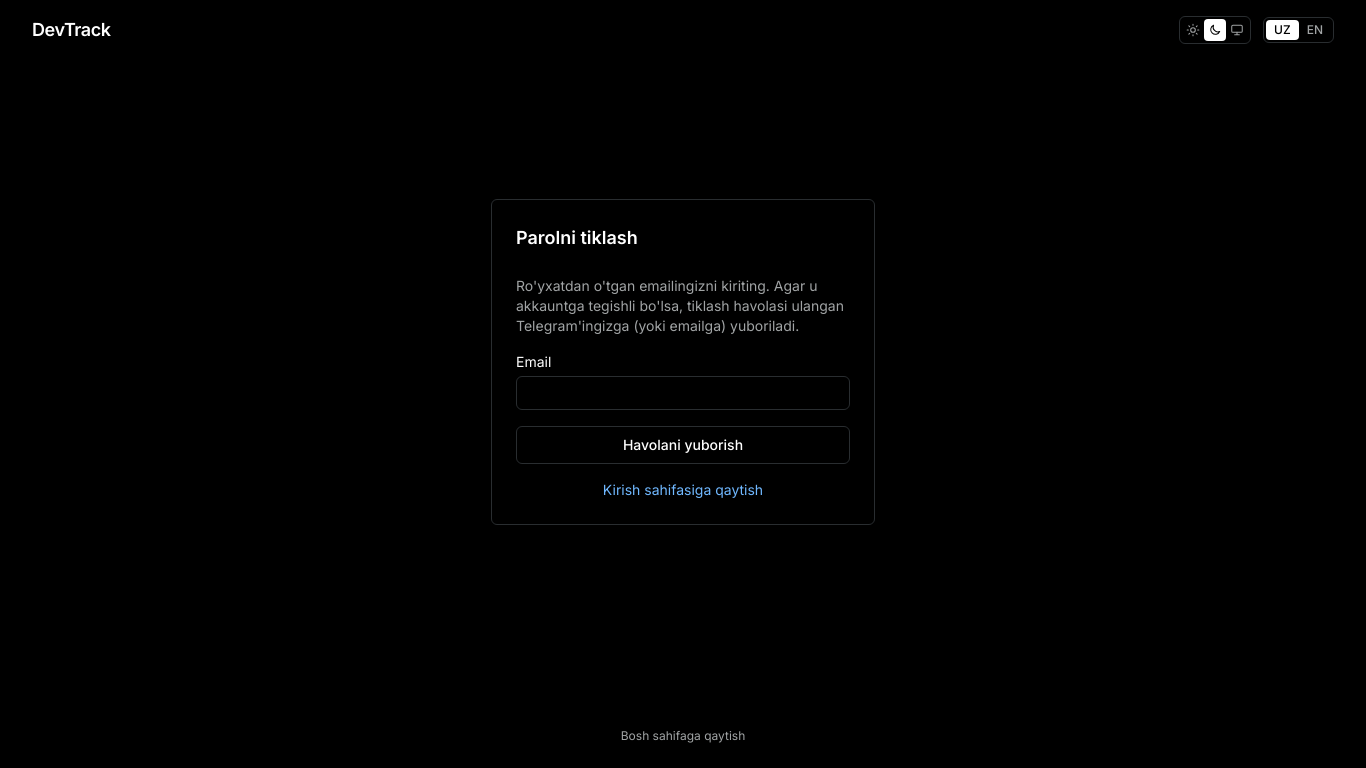
Scenario: ForgotPasswordPage › requests a reset and then shows the confirmation
The width and height of the screenshot is (1366, 768).
Type "jane@example.com" into the field labelled "Email" at (683, 393), box [516, 376, 850, 410]
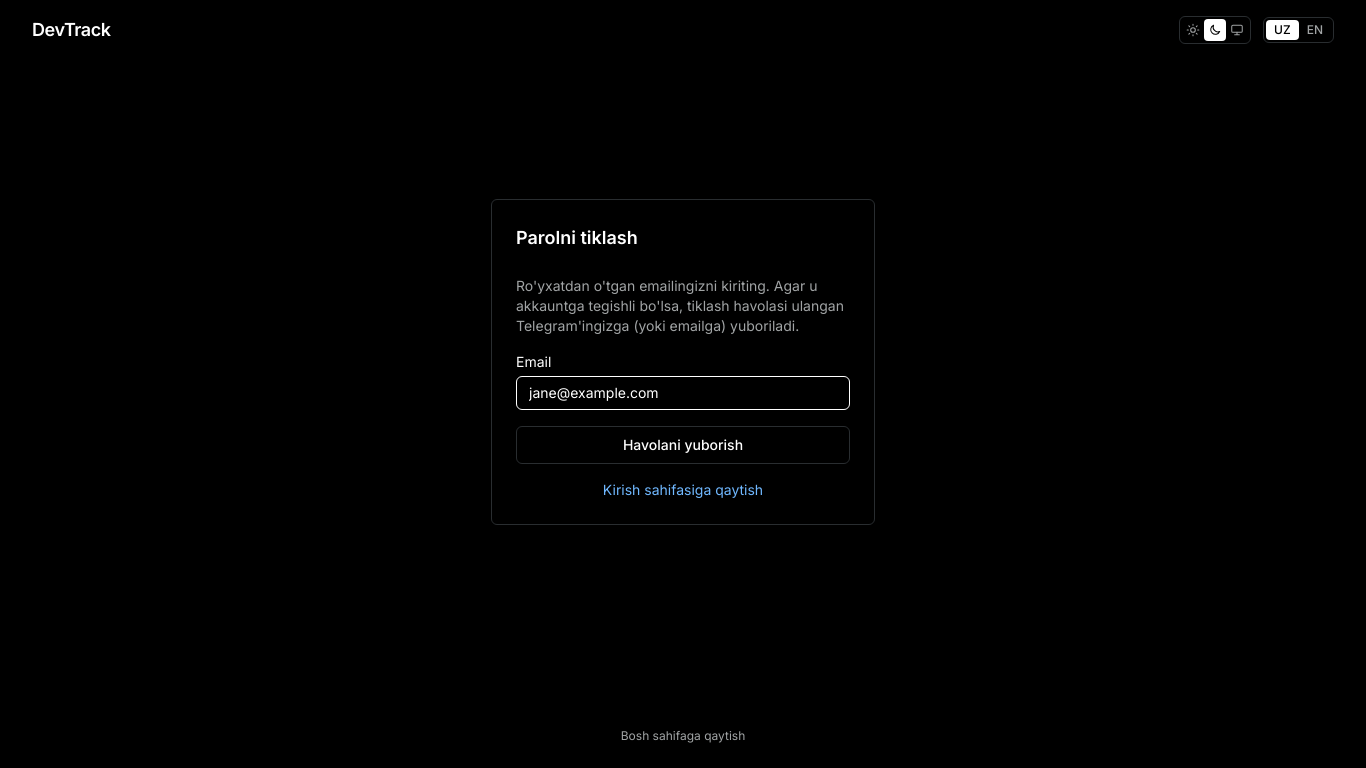
Click the button "Havolani yuborish" at (683, 445), box [516, 426, 850, 464]
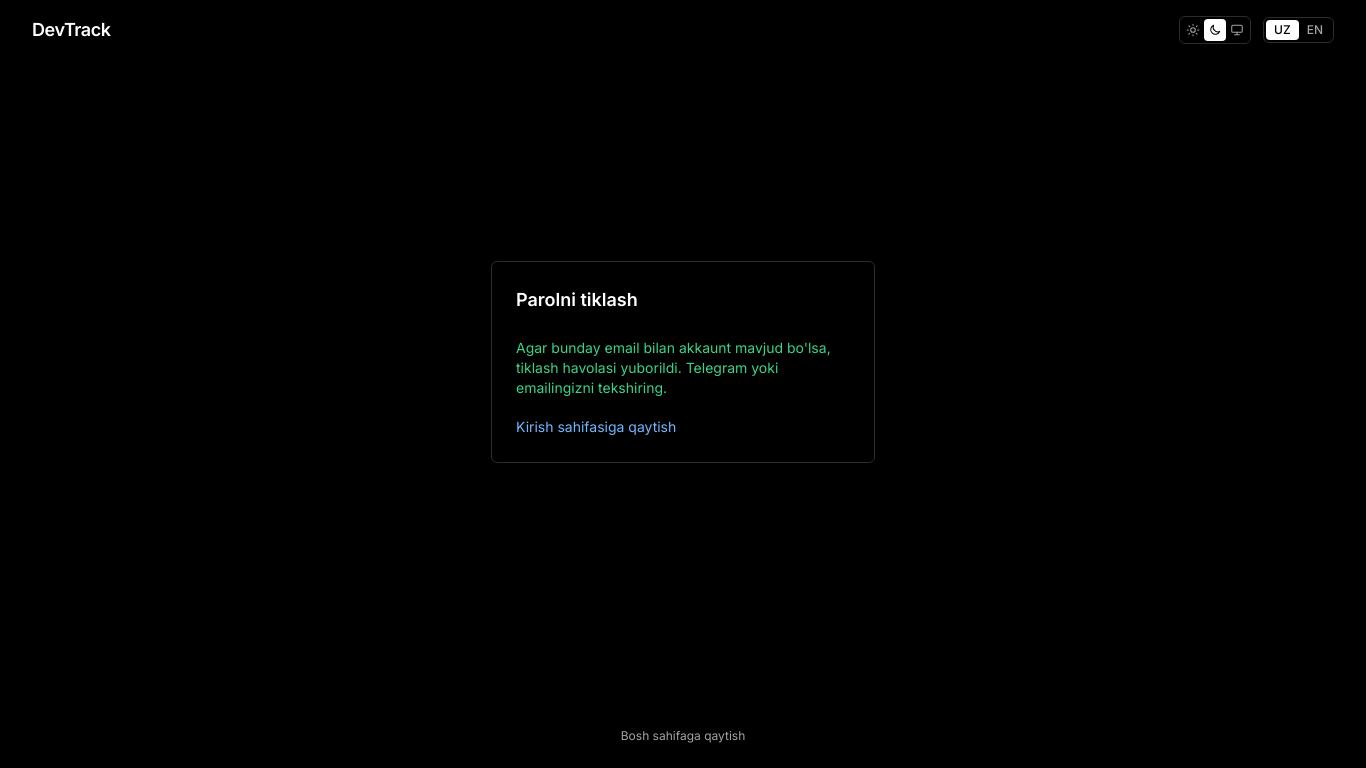
Check: the message shows "tiklash havolasi yuborildi", box [516, 339, 831, 396]
